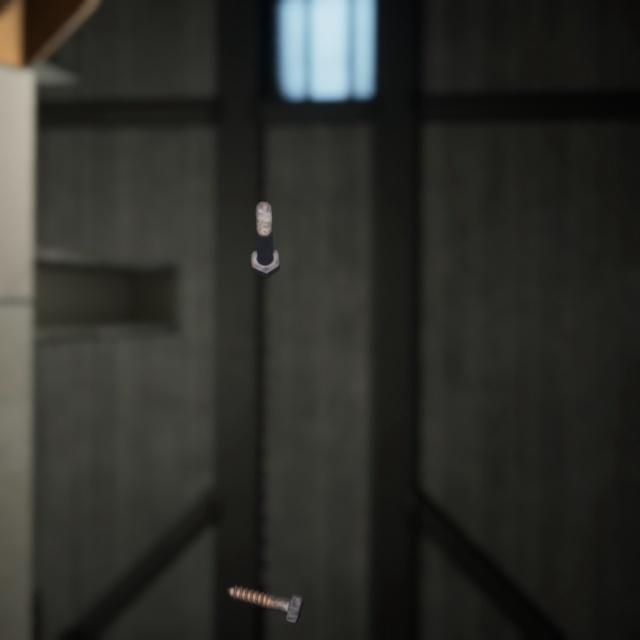bolt: (222, 556, 308, 603), (246, 180, 284, 265)
